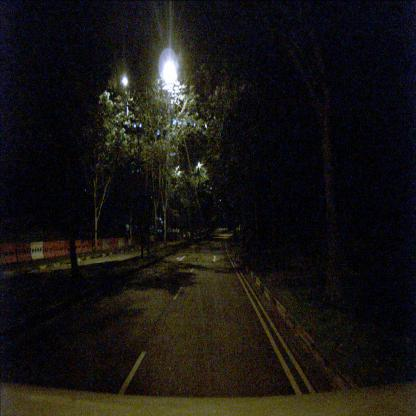human-pedestrian-adult: (125, 231, 130, 249)
movable_object-barrier: (0, 242, 17, 262), (17, 242, 31, 263), (31, 242, 44, 261), (64, 240, 76, 256), (44, 242, 56, 257), (55, 241, 65, 258), (82, 239, 92, 254), (92, 239, 104, 251), (110, 238, 120, 251), (103, 237, 111, 252), (74, 240, 82, 254), (118, 237, 126, 248)
